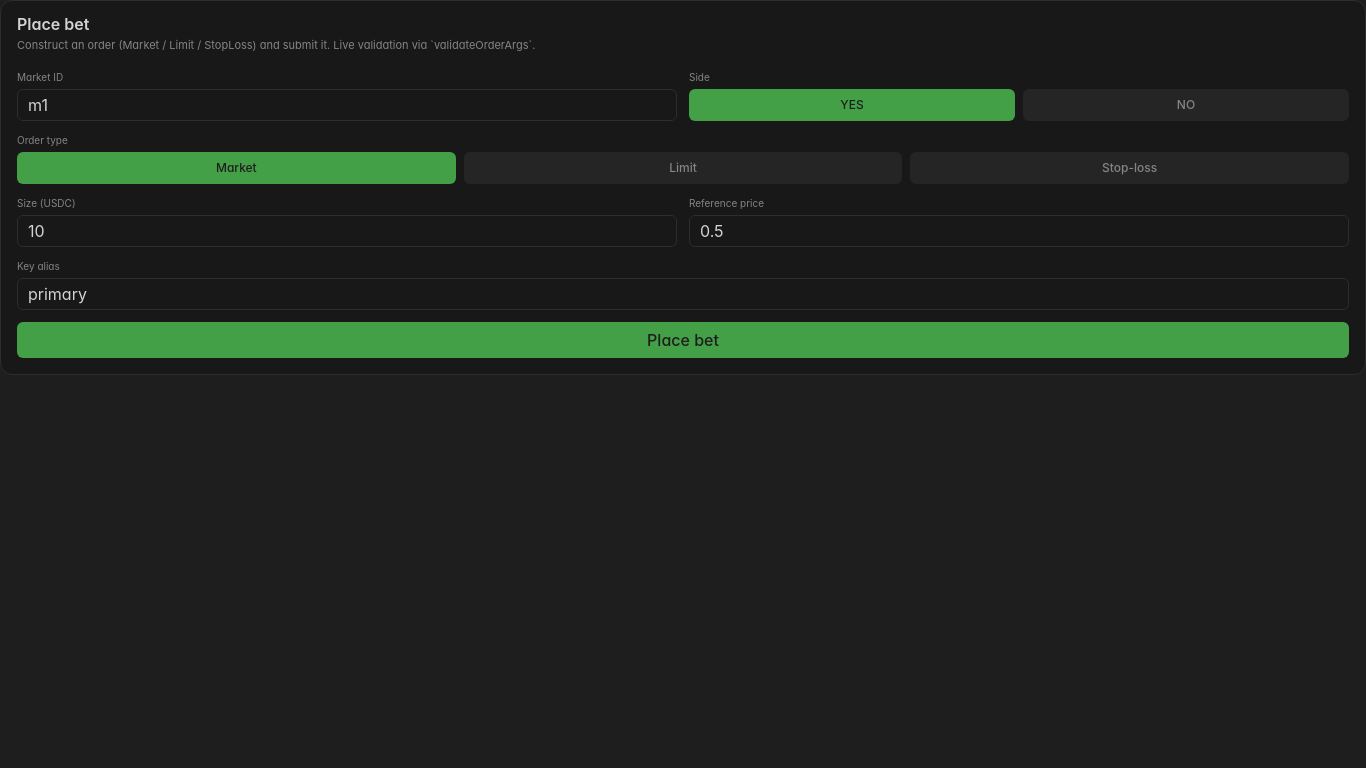
Test: PlaceBetForm (v0.58b) › order type toggle: stop_loss shows limit_price + stop_price
Click the button with test id "place-bet-order-type-stop-loss".
click(1130, 168)  # box [910,152,1349,184]
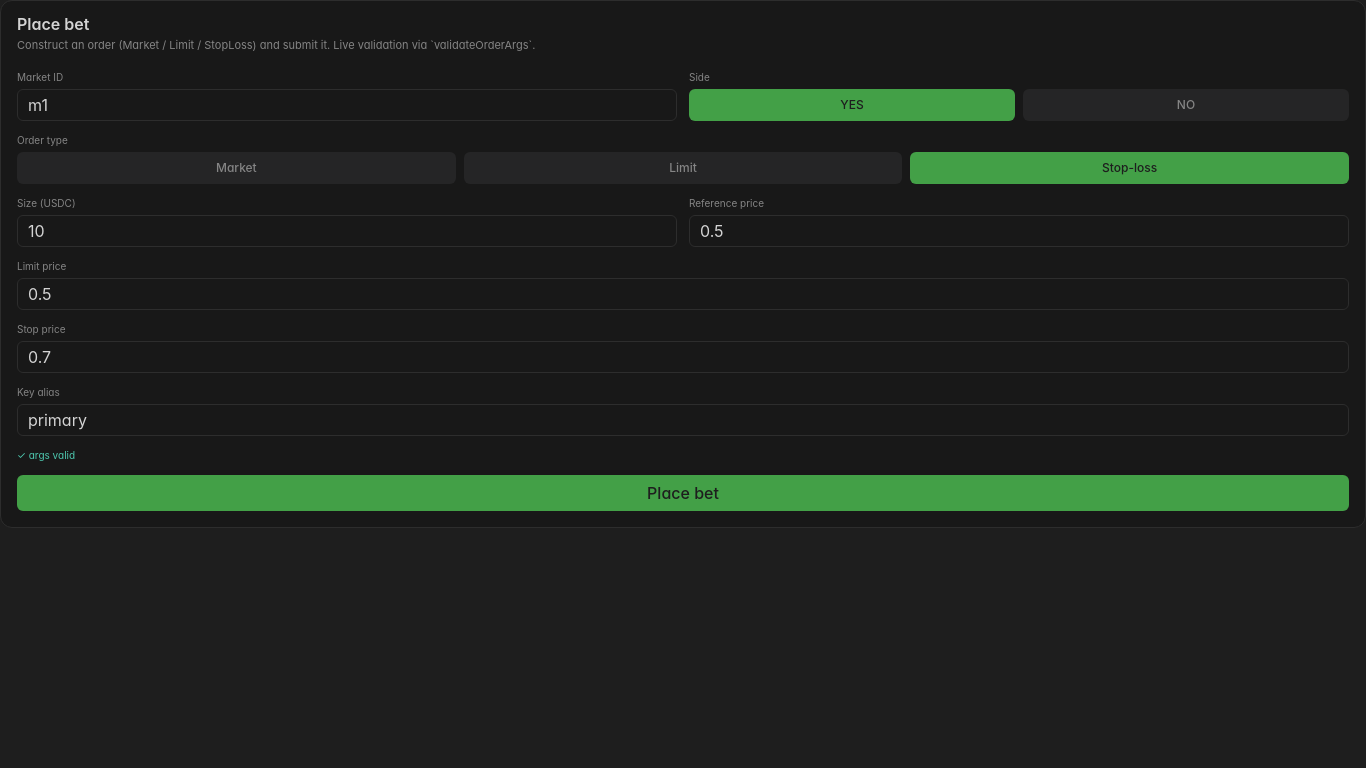
Result: the field with test id "place-bet-limit-price" is shown at [17,278,1349,310]
Result: the field with test id "place-bet-stop-price" is shown at [17,341,1349,373]
